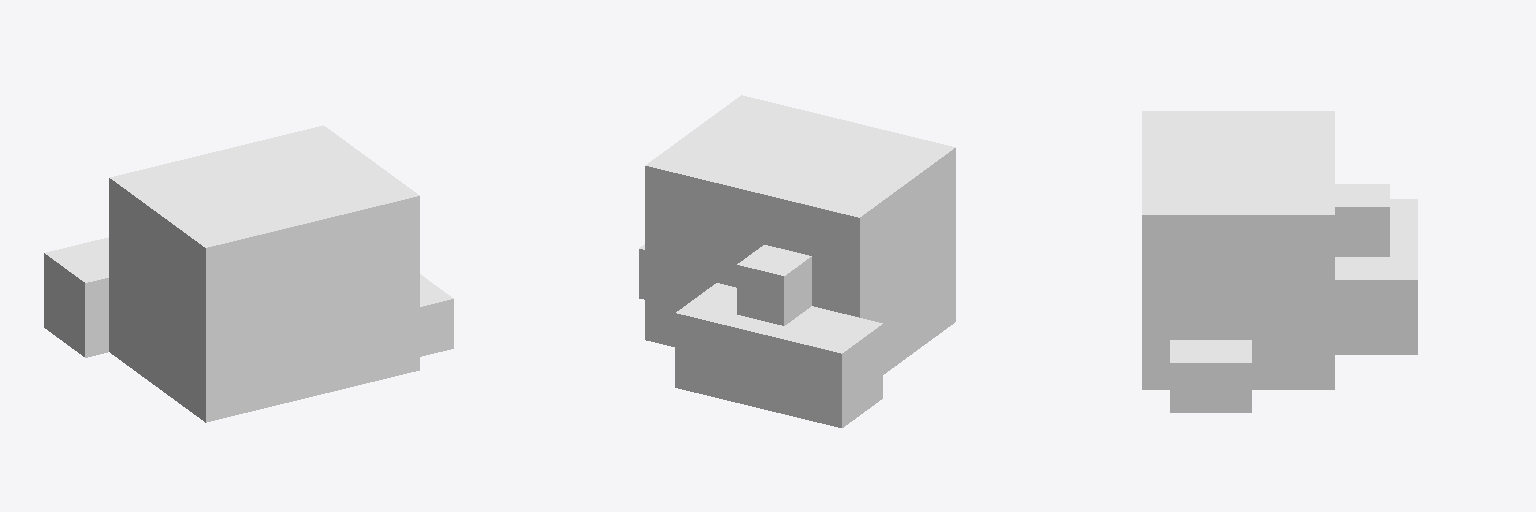
Rendered from stone_002.obj.
3 renders of one model, left to right at view 1: azimuth 30°, elevation 25°; view 2: azimuth 150°, elevation 25°; view 3: azimuth 270°, elevation 25°, orthographic.
Parts seen in each view (by area): view 1: object 1; view 2: object 1; view 3: object 1.
Boxes of the visible parts, x1,y1,x2,y2 form: object 1: [44, 125, 453, 422]; object 1: [639, 95, 955, 427]; object 1: [1142, 111, 1417, 412].
Size of the model in its own units: 1.2 by 0.7 by 1.